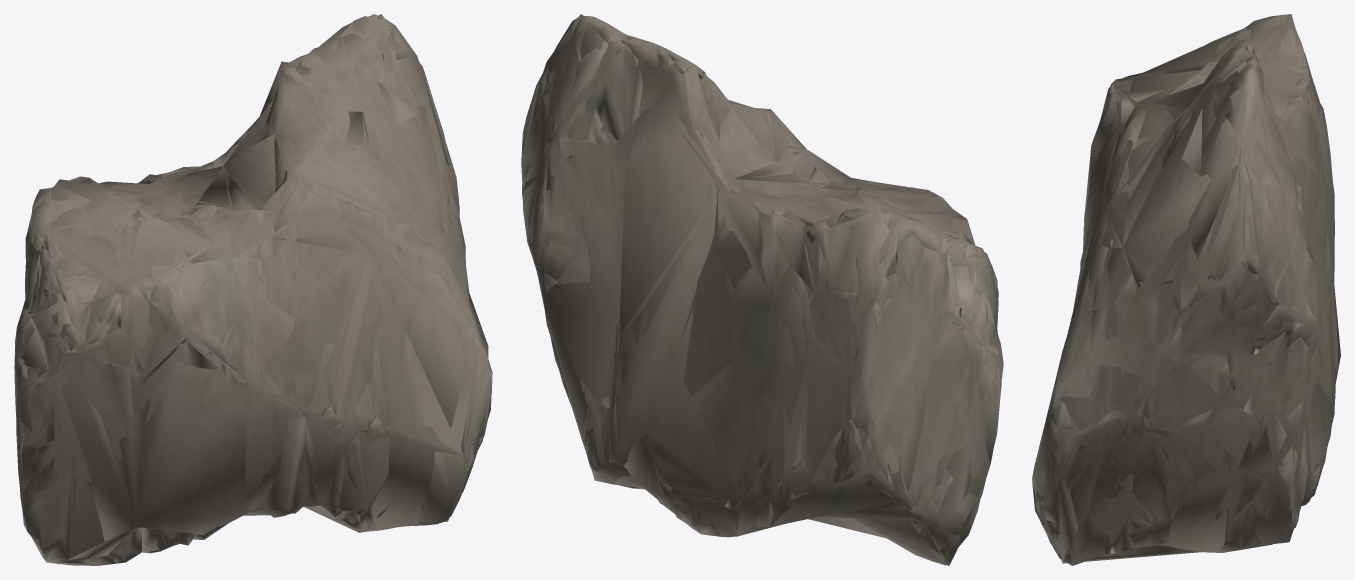
The model's file is moon_rock_01_lo.glb.
The picture shows the model from 3 angles, left to right: view 1: azimuth 30°, elevation 25°; view 2: azimuth 150°, elevation 25°; view 3: azimuth 270°, elevation 25°; orthographic projection. The views are drawn at different scales.
Parts seen in each view (by area): view 1: moon_rock_01_lo; view 2: moon_rock_01_lo; view 3: moon_rock_01_lo.
Boxes of the visible parts, <box> form: moon_rock_01_lo: <box>14,14,492,565</box>; moon_rock_01_lo: <box>521,14,1003,565</box>; moon_rock_01_lo: <box>1032,14,1340,565</box>.
Bounding box in the file's own units: 1 × 0.9997 × 0.5304.
1 material, 1 textured.
